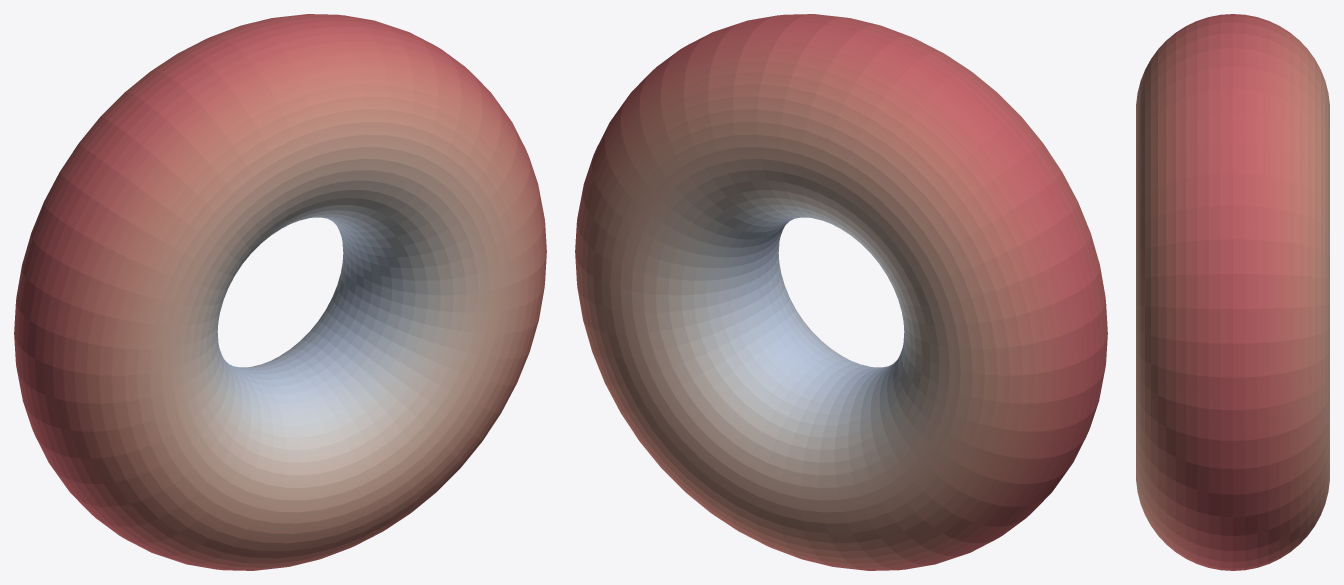
The picture shows the model from 3 angles, left to right: view 1: azimuth 30°, elevation 25°; view 2: azimuth 150°, elevation 25°; view 3: azimuth 270°, elevation 25°; orthographic projection. The views are drawn at different scales.
Visible parts, largest first — view 1: world; view 2: world; view 3: world.
Boxes of the visible parts, <box> form: world: <box>14,14,546,570</box>; world: <box>575,14,1107,570</box>; world: <box>1136,14,1329,570</box>.
Size of the model in its own units: 25.6 by 25.55 by 8.92.
